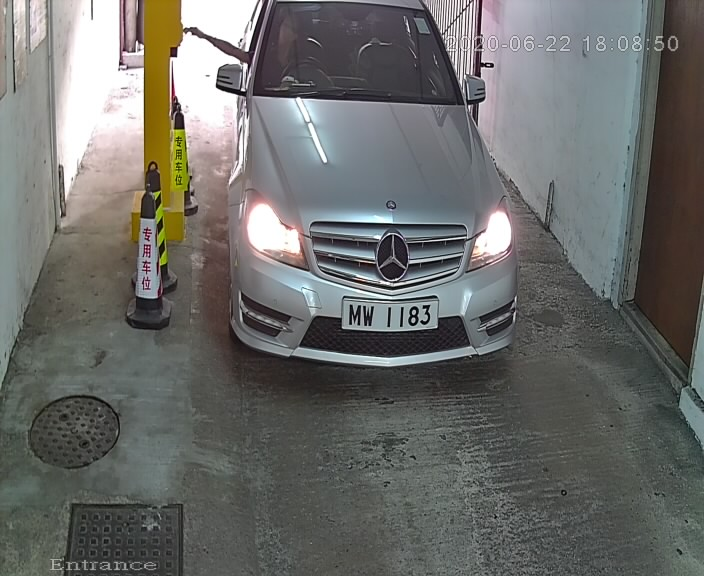privatecar: (198, 1, 547, 397)
